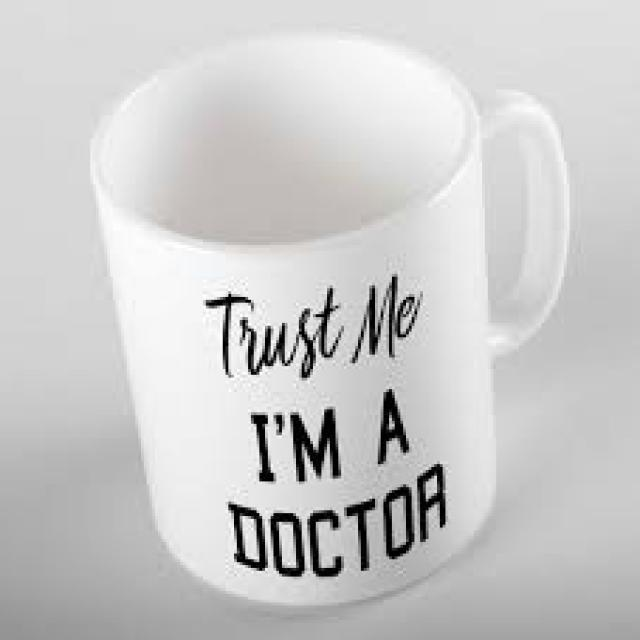taza: (68, 21, 578, 613)
